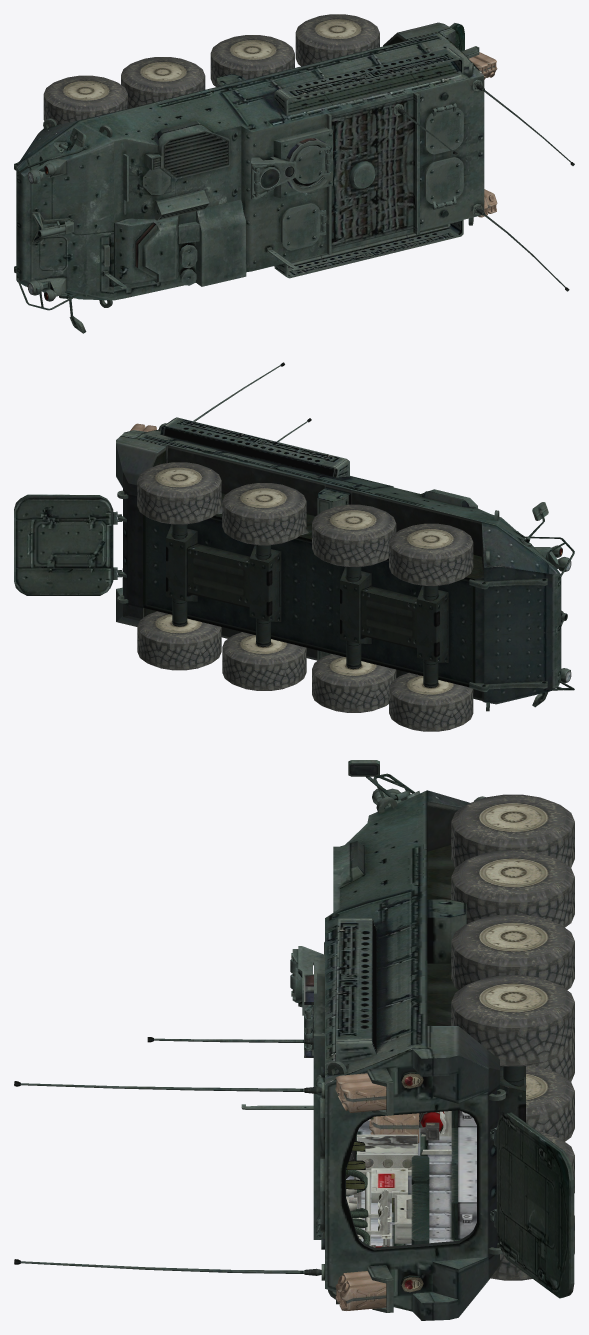
File: stryker.obj
The picture shows the model from 3 angles, top to bottom: view 1: azimuth 30°, elevation 25°; view 2: azimuth 150°, elevation 25°; view 3: azimuth 270°, elevation 25°; orthographic projection. The views are drawn at different scales.
Parts seen in each view (by area): view 1: studio_st4, studio_st7, studio_str; view 2: studio_st4, studio_st7; view 3: studio_st4, studio_st7, studio_st2, studio_str.
Boxes of the visible parts, <box> form: studio_st4: <box>14,22,574,333</box>; studio_st7: <box>43,14,379,126</box>; studio_str: <box>469,52,497,217</box>; studio_st4: <box>14,362,574,711</box>; studio_st7: <box>137,462,473,731</box>; studio_st4: <box>14,760,574,1320</box>; studio_st7: <box>451,794,574,1280</box>; studio_st2: <box>346,1110,457,1246</box>; studio_str: <box>335,1073,419,1310</box>.
Size of the model in its own units: 10.47 by 3.99 by 6.94.
Materials: 7 (7 with a texture image).
